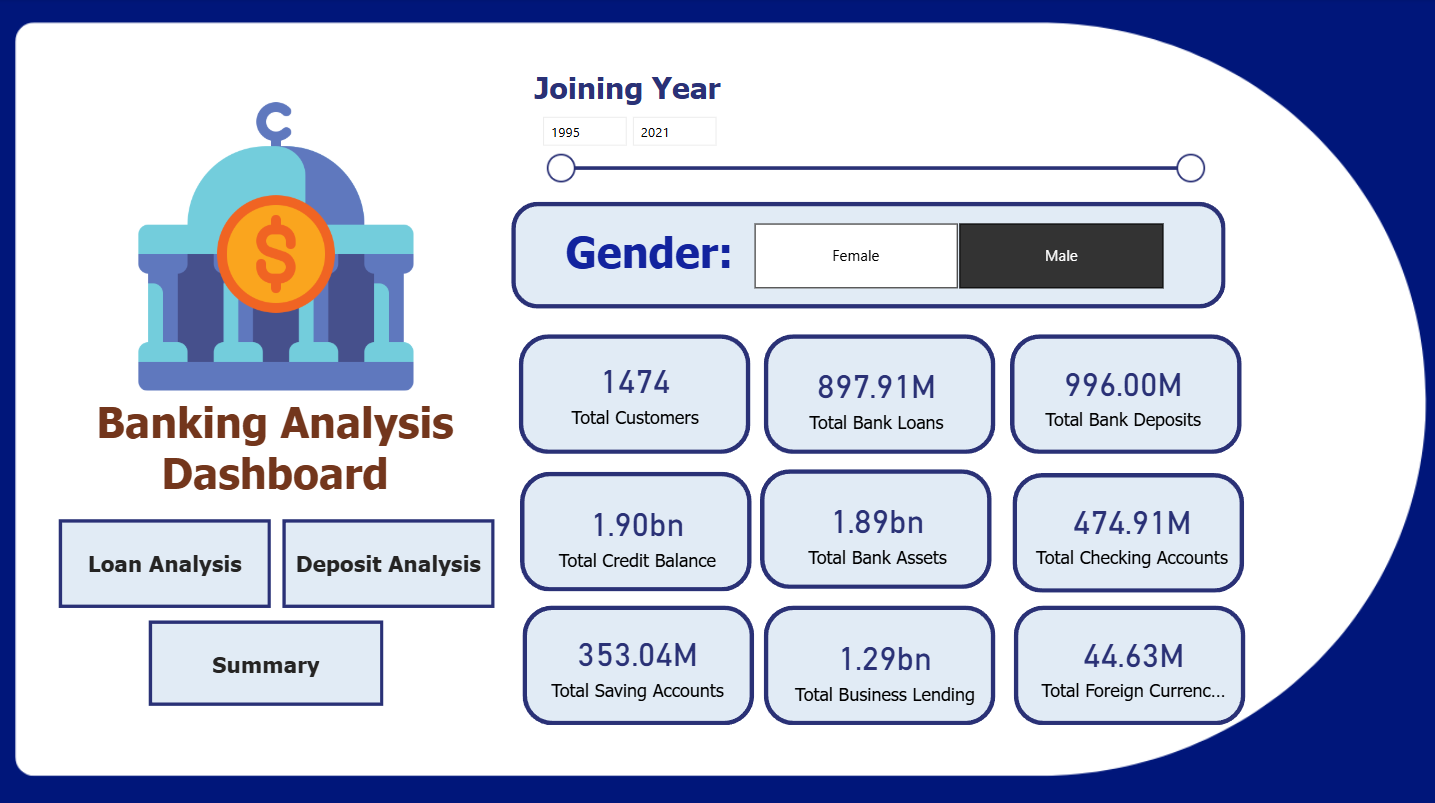

The page's visual inventory and layout, read from the dashboard file:
{"tool":"powerbi","page":{"name":"Home","canvas":[1280,720],"ordinal":0},"visuals":[{"type":"shape","box":[455.6,180.9,636.3,95.2],"z":0},{"type":"shape","box":[899.8,299.9,206.3,106.8],"z":1000},{"type":"shape","box":[680.1,299.5,206.3,106.8],"z":2000},{"type":"shape","box":[901.2,422.5,206.3,106.8],"z":3000},{"type":"shape","box":[676.9,419.8,206.3,106.8],"z":4000},{"type":"shape","box":[463.4,422.2,206.3,106.8],"z":5000},{"type":"shape","box":[464.9,540.5,206.3,106.8],"z":6000},{"type":"shape","box":[680.4,541,206.3,106.8],"z":7000},{"type":"shape","box":[902.7,540.8,206.3,106.8],"z":8000},{"type":"shape","box":[462,299.5,206.3,106.8],"z":9000},{"type":"image","box":[105.3,63.5,279.9,316],"z":10000},{"type":"pageNavigator","box":[52.8,463.7,388.1,79.4],"z":11000},{"type":"pageNavigator","box":[132.2,554.6,209.2,76.5],"z":12000},{"type":"textbox","box":[38.4,349.4,414.1,112.5],"z":13000},{"type":"slicer","title":"Joining Year","fields":{"Values":["Banking.Joined Year"]},"box":[470.3,63.5,610.3,108.2],"z":14000},{"type":"slicer","fields":{"Values":["Banking.GenderId"]},"box":[645.8,193.3,414.1,72.1],"z":15000},{"type":"textbox","box":[498.6,197.7,191.9,59.2],"z":16000},{"type":"card","title":"Total Customers","fields":{"Values":["Banking.Total Customers"]},"box":[488.5,301.5,154.4,96.7],"z":17000},{"type":"card","fields":{"Values":["Banking.Total Bank Loans"]},"box":[703.5,305.9,154.4,96.7],"z":18000},{"type":"card","fields":{"Values":["Banking.Total Credit Balance"]},"box":[469.8,425.6,196.2,103.9],"z":19000},{"type":"card","fields":{"Values":["Banking.Total Bank Deposits"]},"box":[909.8,301.5,181.8,101],"z":20000},{"type":"card","fields":{"Values":["Banking.Total Checking Accounts"]},"box":[909.8,425.6,197.7,99.6],"z":21000},{"type":"card","fields":{"Values":["Banking.Total Saving Accounts"]},"box":[469.8,541,196.2,103.9],"z":22000},{"type":"card","fields":{"Values":["Banking.Total Business Lending"]},"box":[690.5,543.9,196.2,103.9],"z":23000},{"type":"card","fields":{"Values":["Banking.Total Bank Assets"]},"box":[683.3,425.6,196.2,98.1],"z":24000},{"type":"card","fields":{"Values":["Banking.Total Foreign Currency Accounts"]},"box":[919.9,546.8,180.3,93.8],"z":25000}]}

Visuals, with their boxes in screenshot pixels (x1, y1, x2, y2), scaled from the page's 1280x720 canvas onto the 1435x803 screenshot:
shape: x1=511, y1=202, x2=1224, y2=308
shape: x1=1009, y1=334, x2=1240, y2=454
shape: x1=762, y1=334, x2=994, y2=453
shape: x1=1010, y1=471, x2=1242, y2=590
shape: x1=759, y1=468, x2=990, y2=587
shape: x1=520, y1=471, x2=751, y2=590
shape: x1=521, y1=603, x2=752, y2=722
shape: x1=763, y1=603, x2=994, y2=722
shape: x1=1012, y1=603, x2=1243, y2=722
shape: x1=518, y1=334, x2=749, y2=453
image: x1=118, y1=71, x2=432, y2=423
pageNavigator: x1=59, y1=517, x2=494, y2=606
pageNavigator: x1=148, y1=619, x2=383, y2=704
textbox: x1=43, y1=390, x2=507, y2=515
"Joining Year" slicer: x1=527, y1=71, x2=1211, y2=191
slicer - Banking.GenderId: x1=724, y1=216, x2=1188, y2=296
textbox: x1=559, y1=220, x2=774, y2=287
"Total Customers" card: x1=548, y1=336, x2=721, y2=444
card - Banking.Total Bank Loans: x1=789, y1=341, x2=962, y2=449
card - Banking.Total Credit Balance: x1=527, y1=475, x2=747, y2=591
card - Banking.Total Bank Deposits: x1=1020, y1=336, x2=1224, y2=449
card - Banking.Total Checking Accounts: x1=1020, y1=475, x2=1242, y2=586
card - Banking.Total Saving Accounts: x1=527, y1=603, x2=747, y2=719
card - Banking.Total Business Lending: x1=774, y1=607, x2=994, y2=722
card - Banking.Total Bank Assets: x1=766, y1=475, x2=986, y2=584
card - Banking.Total Foreign Currency Accounts: x1=1031, y1=610, x2=1233, y2=714
